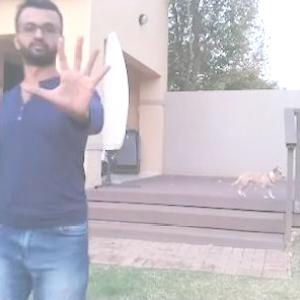follow_hand: (18, 31, 116, 122)
